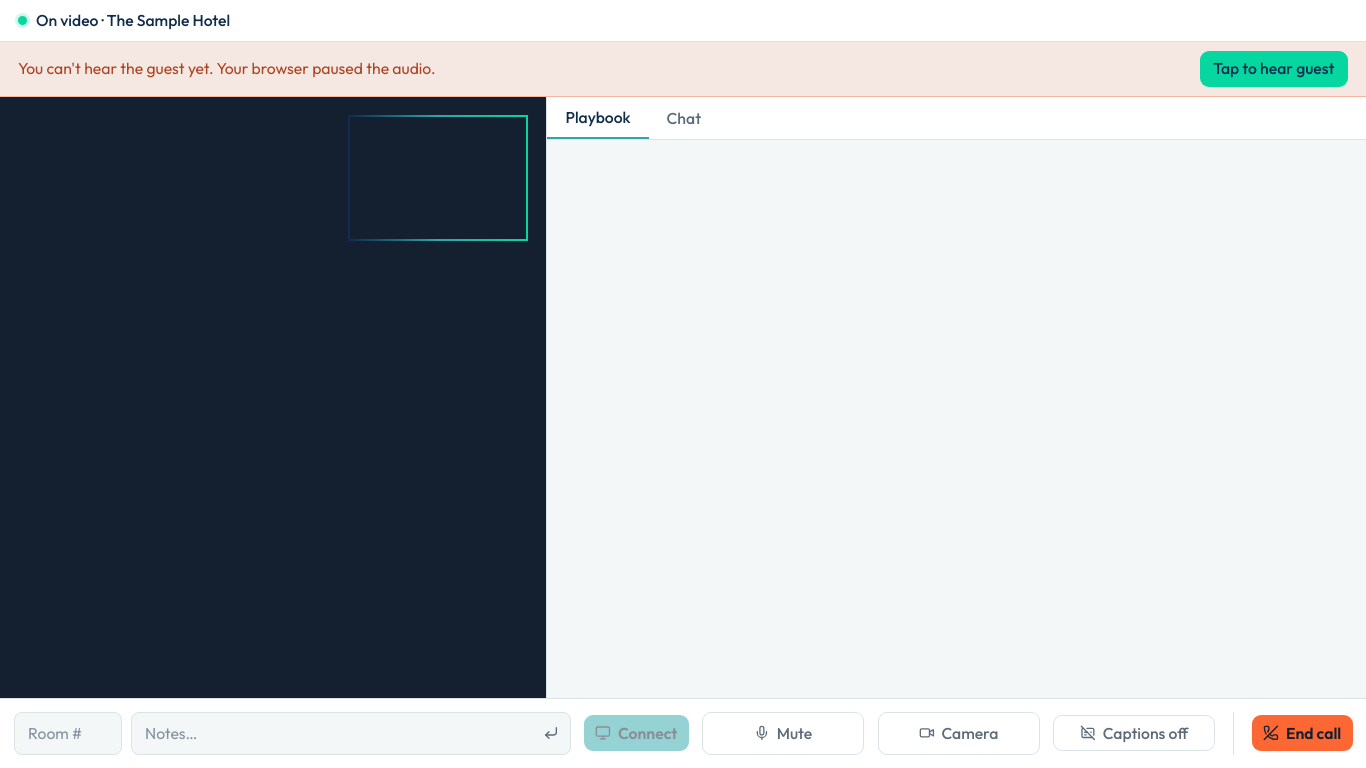
Test: VideoCall — provider-neutral behavior (livekit harness) › surfaces a 'Tap to hear guest' control on blocked autoplay and recovers on click
What coordinates should you click on to do the following:
click the button "Tap to hear guest"
I would click on:
 (1274, 68)
Its box is x1=1200 y1=50 x2=1348 y2=86.
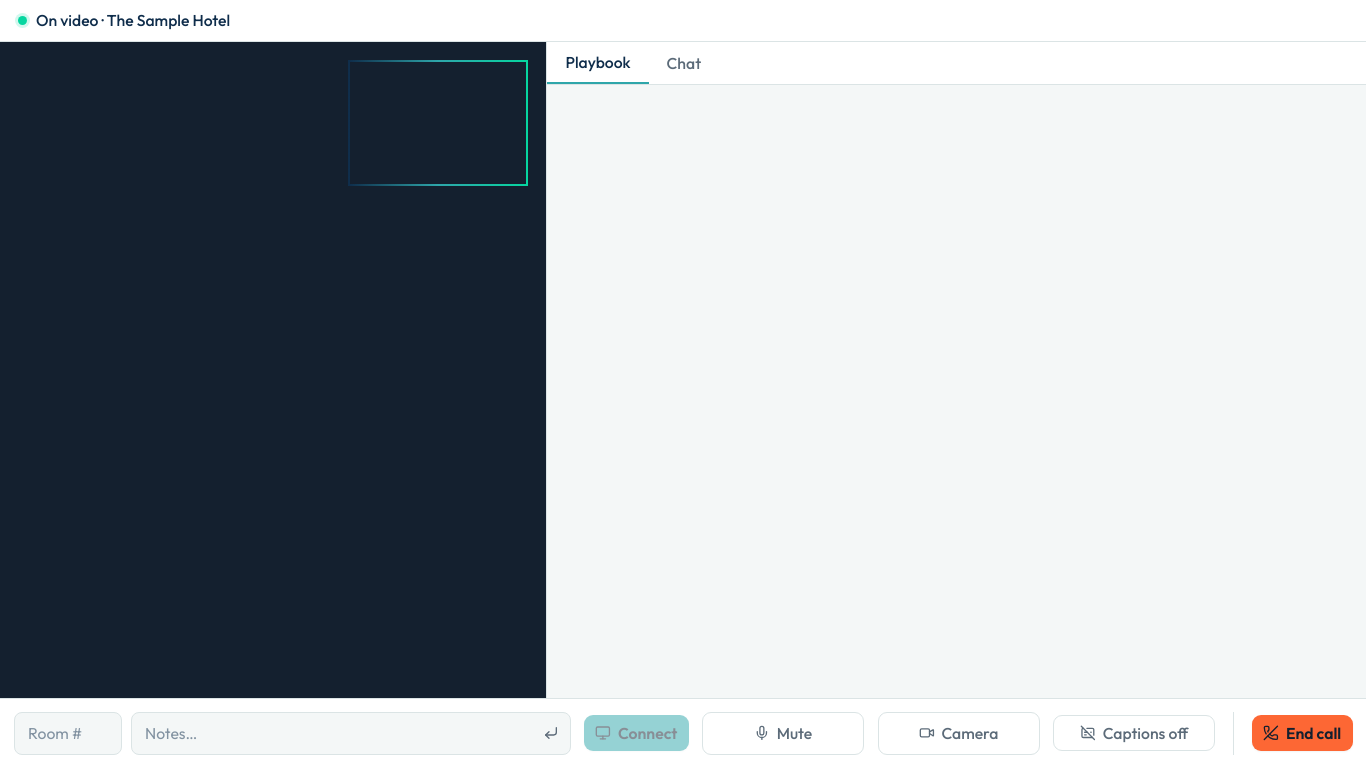
Check: the button "Tap to hear guest" is gone
